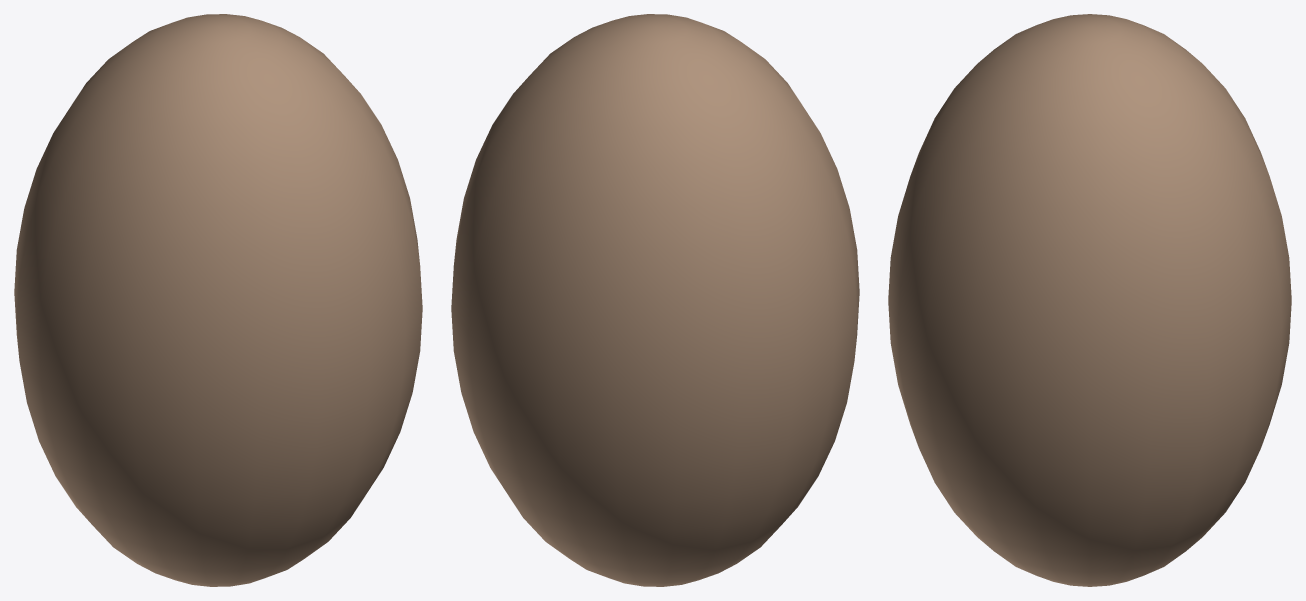
Rendered from EggWhole01.fbx.
3 views of the same model, side by side, from view 1: azimuth 30°, elevation 25°; view 2: azimuth 150°, elevation 25°; view 3: azimuth 270°, elevation 25° (orthographic).
Parts seen in each view (by area): view 1: pSphere2; view 2: pSphere2; view 3: pSphere2.
Boxes of the visible parts, <box> form: pSphere2: <box>14,14,422,586</box>; pSphere2: <box>451,14,859,586</box>; pSphere2: <box>888,14,1291,586</box>.
Bounding box in the file's own units: 4 × 5.84 × 3.91.
